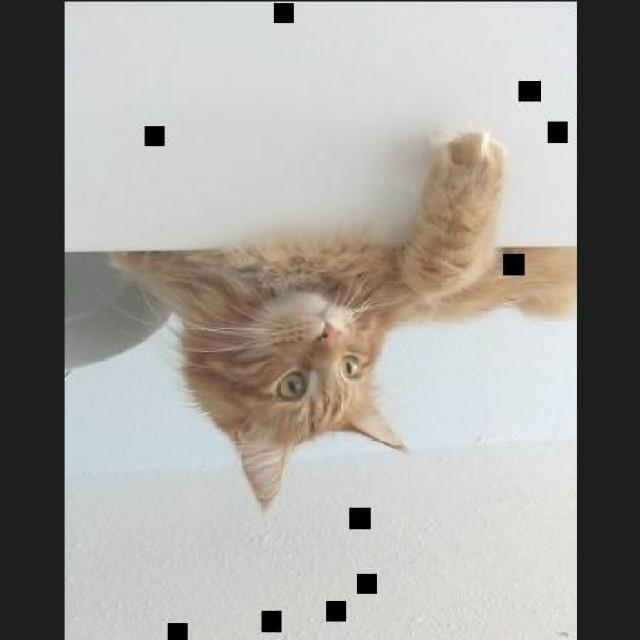unauthorized: (104, 126, 576, 509)
